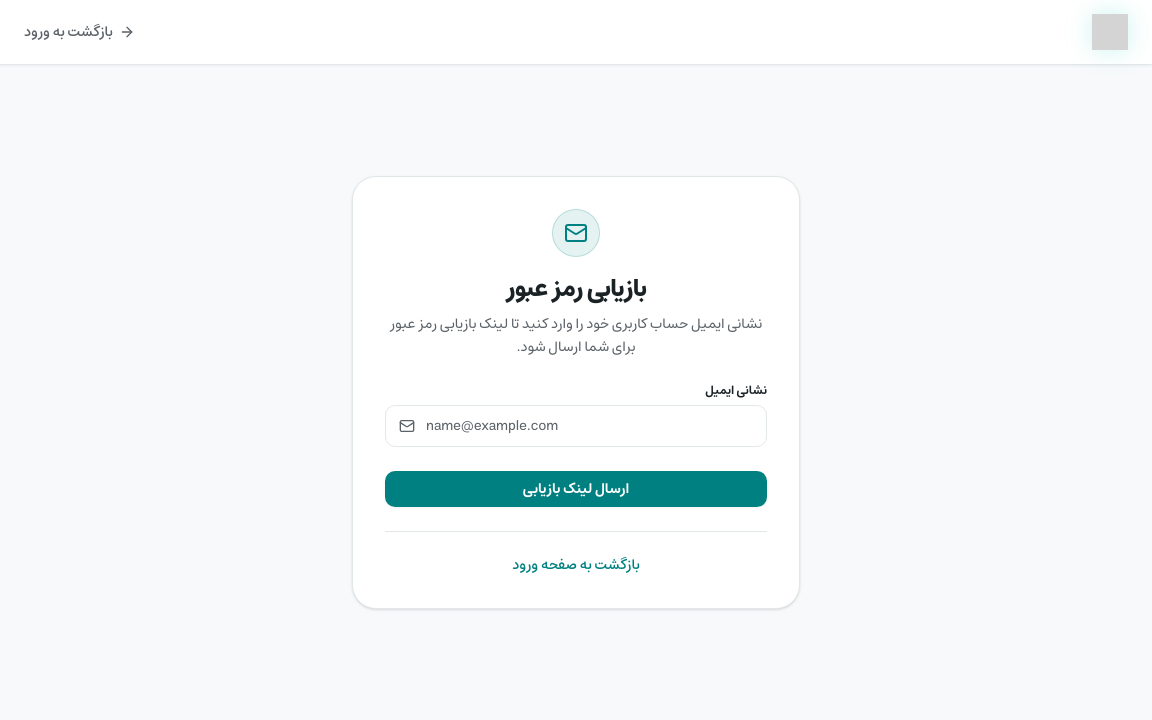
Auth UI - Forgot Password & Reset Password Flow › ForgotPasswordPage › sends forgot-password request, displays success message, and activates cooldown timer
Type "student@example.com" into the field with id "forgot-email".
click(576, 426); type("student@example.com")  # box [385,405,767,447]
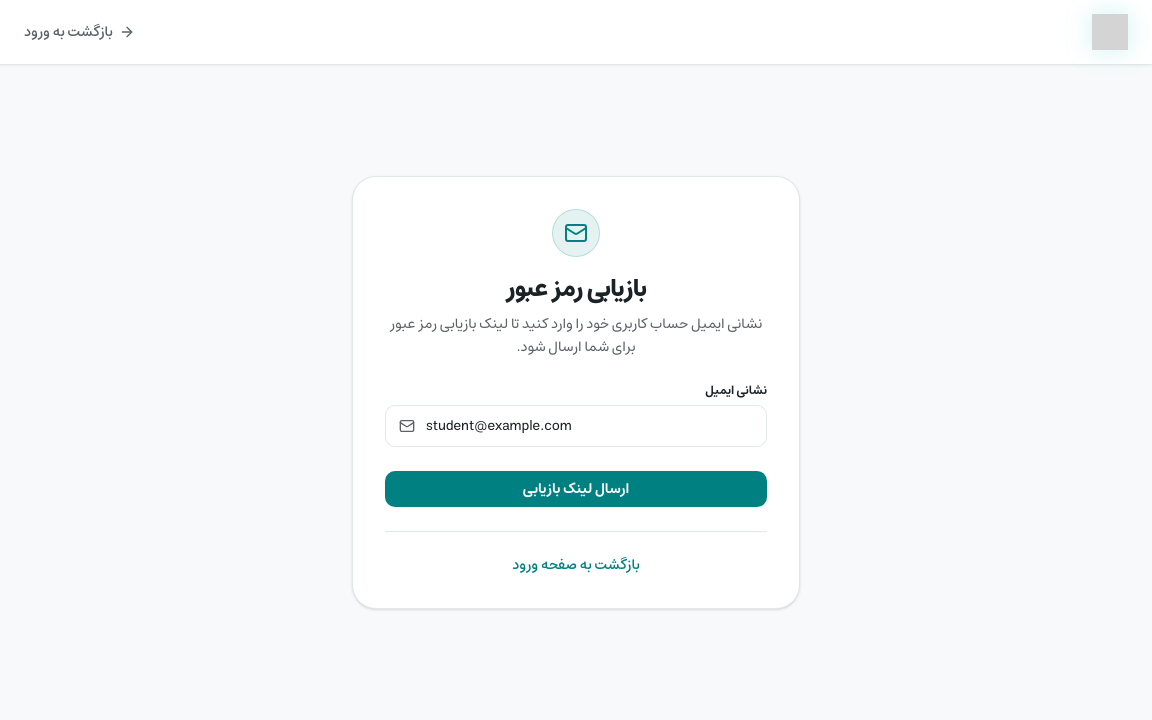
Submit the form, box [385,383,767,507]
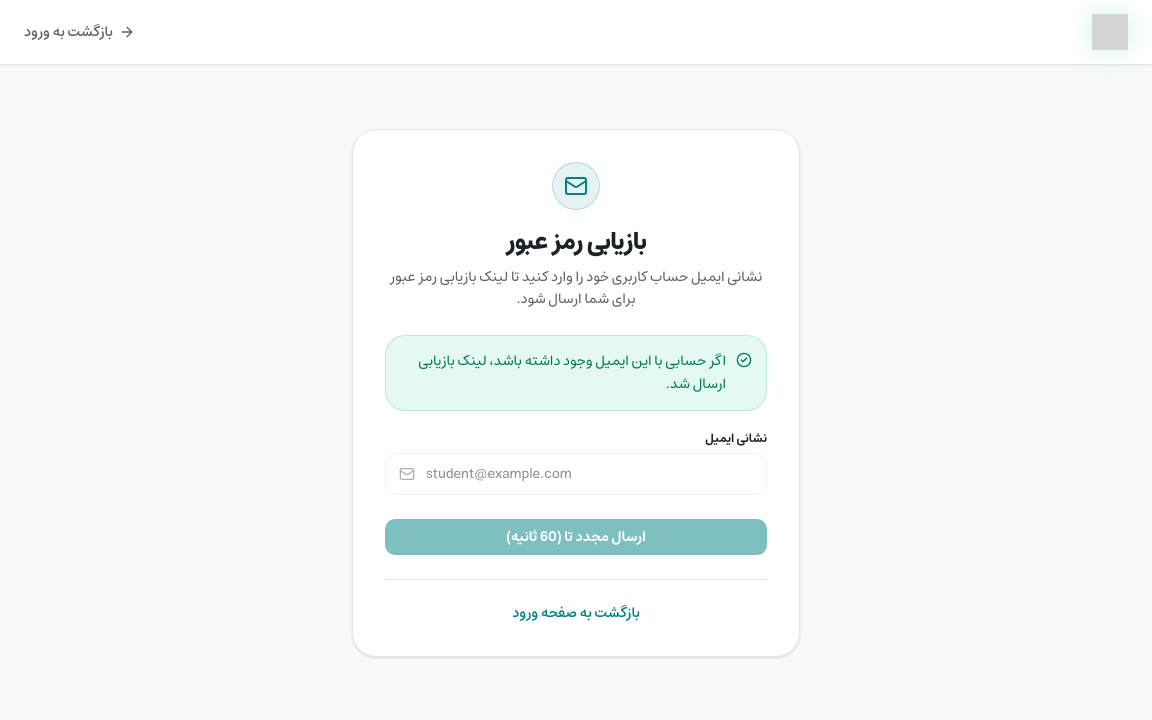
Check: the text "اگر حسابی با این ایمیل وجود داشته باشد، لینک بازیابی ارسال شد." is shown, box [400,350,726,396]
Check: the button is disabled, box [385,518,767,554]
Check: the button reads "ارسال مجدد تا (60 ثانیه)", box [385,518,767,554]
